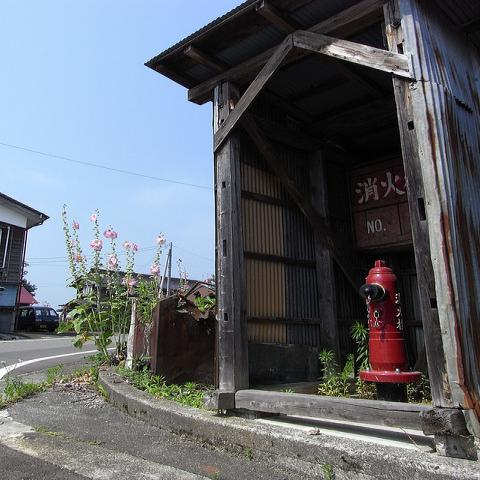car: (15, 306, 60, 333)
